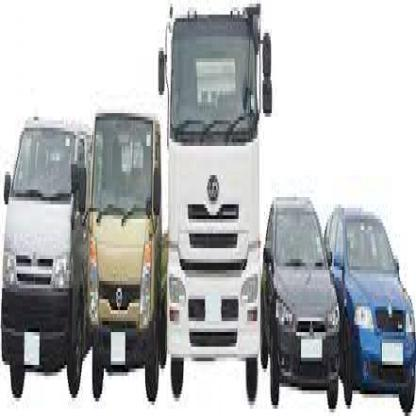car: (326, 197, 415, 409), (262, 193, 342, 412)
lorry: (89, 110, 167, 402)
tiper: (156, 0, 272, 409)
van: (3, 106, 92, 394)
